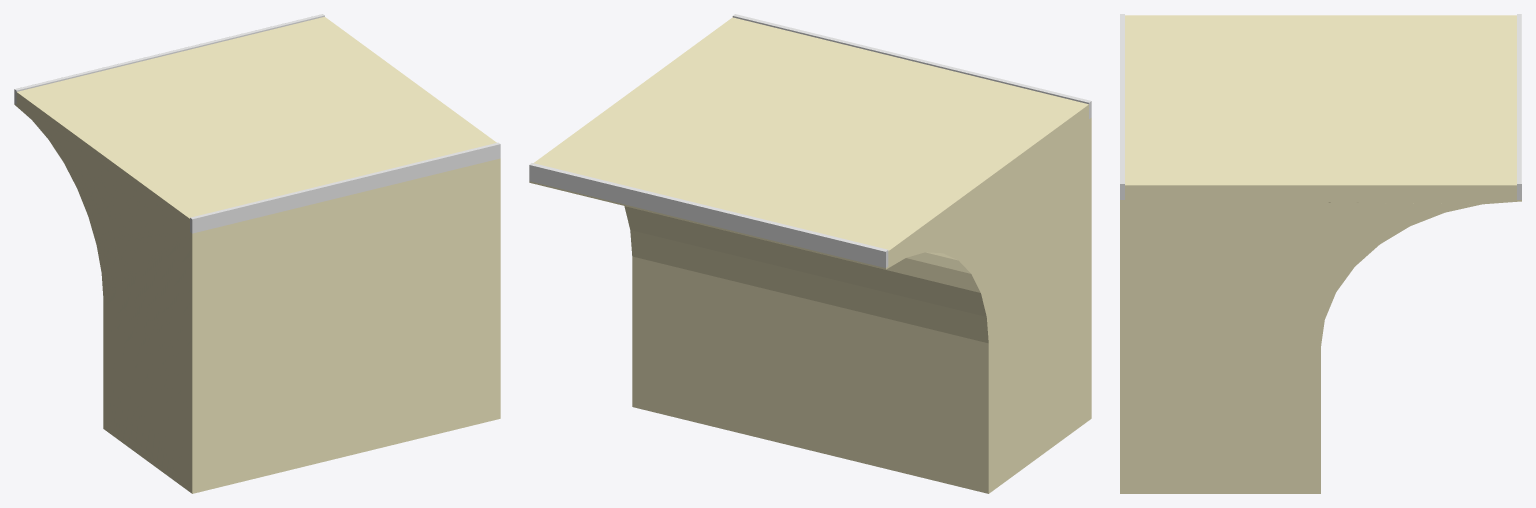
File: workdesk.fbx
3 renders of one model, left to right at view 1: azimuth 30°, elevation 25°; view 2: azimuth 150°, elevation 25°; view 3: azimuth 270°, elevation 25°, orthographic. The views are drawn at different scales.
Visible parts, largest first — view 1: table_base, table_top, table_guard2, table_guard1; view 2: table_base, table_top, table_guard1, table_guard2; view 3: table_top, table_base, table_guard2, table_guard1.
Boxes of the visible parts, x1,y1,x2,y2 form: table_base: (14, 103, 500, 493); table_top: (16, 17, 496, 231); table_guard2: (190, 142, 500, 233); table_guard1: (14, 14, 324, 104); table_base: (529, 118, 1091, 493); table_top: (533, 17, 1088, 265); table_guard1: (529, 163, 888, 267); table_guard2: (732, 14, 1091, 118); table_top: (1125, 15, 1516, 199); table_base: (1120, 200, 1521, 493); table_guard2: (1120, 14, 1124, 199); table_guard1: (1517, 14, 1521, 199).
Bounding box in the file's own units: 62 × 52.79 × 62.
2 materials, 2 textured.
